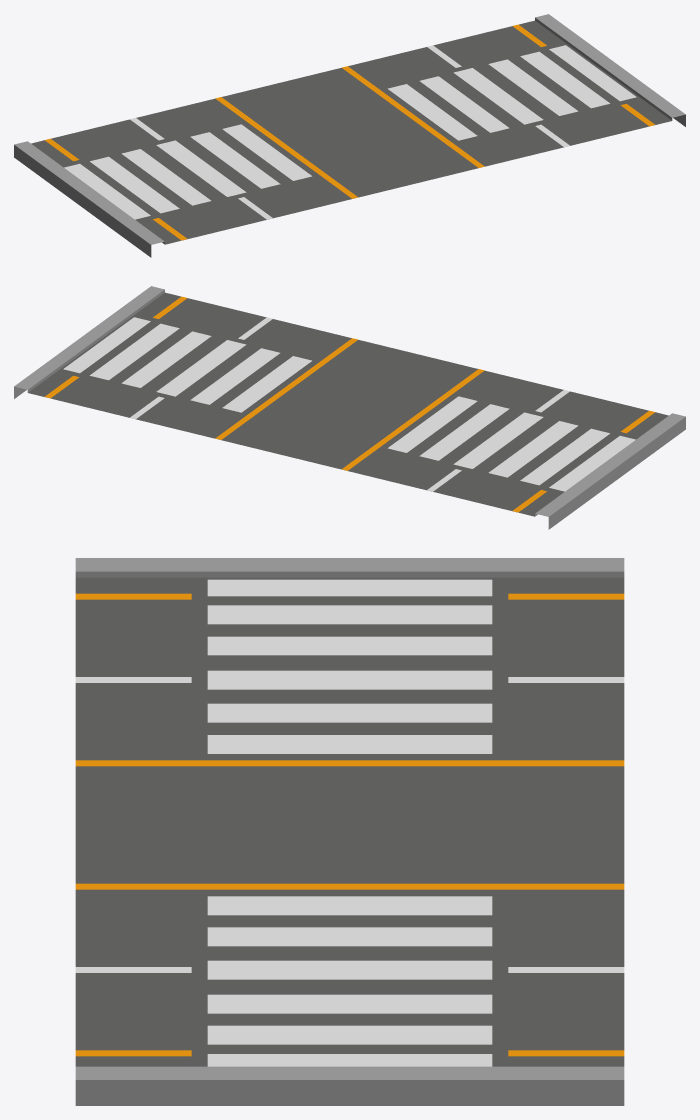
File: Road_B_2L_1_8.glb
The picture shows the model from 3 angles, top to bottom: view 1: azimuth 30°, elevation 25°; view 2: azimuth 150°, elevation 25°; view 3: azimuth 270°, elevation 25°; orthographic projection. The views are drawn at different scales.
Parts seen in each view (by area): view 1: Road_B_2L_1_8; view 2: Road_B_2L_1_8; view 3: Road_B_2L_1_8.
Boxes of the visible parts, <box> form: Road_B_2L_1_8: <box>14,14,685,257</box>; Road_B_2L_1_8: <box>14,286,685,529</box>; Road_B_2L_1_8: <box>75,558,624,1105</box>.
Bounding box in the file's own units: 18 × 0.4148 × 8.
1 material, 1 textured.
